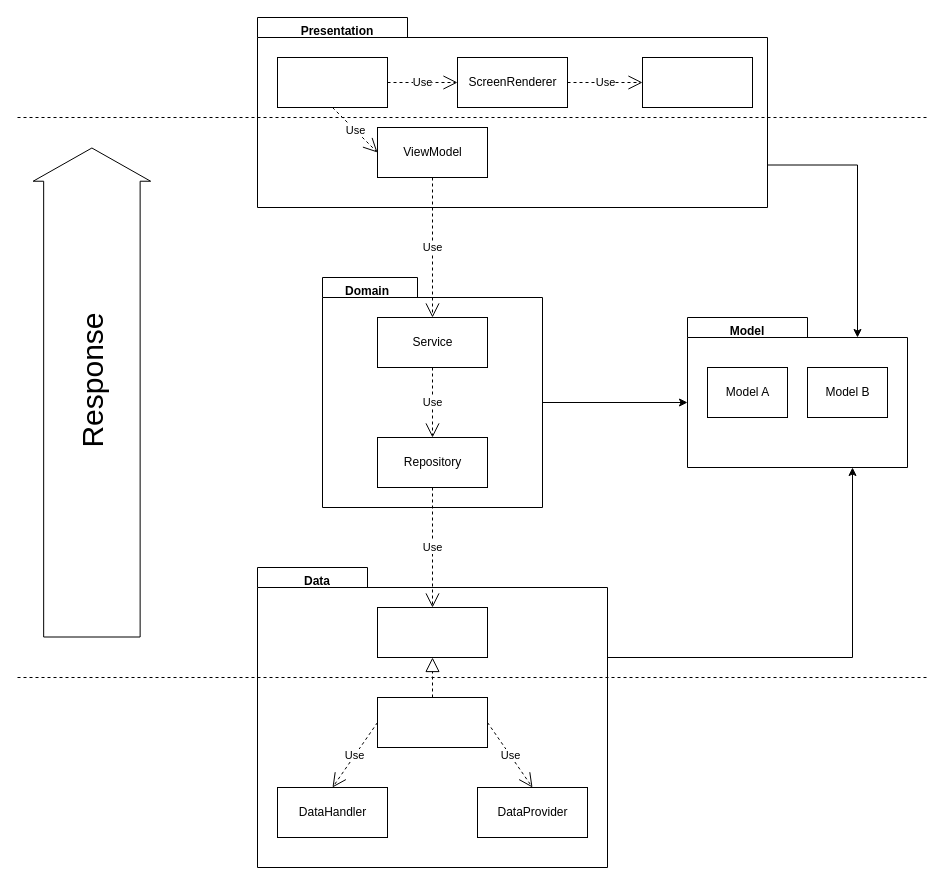
Some shapes in this 946 by 885 pixel diagram are drawn without their labels. Each missing label, with the centre of its shape:
"Activities" goes at pixel 332 82.
"DataManager" goes at pixel 432 722.
"ViewProvider" goes at pixel 697 82.
"«interface» DataSource" goes at pixel 432 632.
